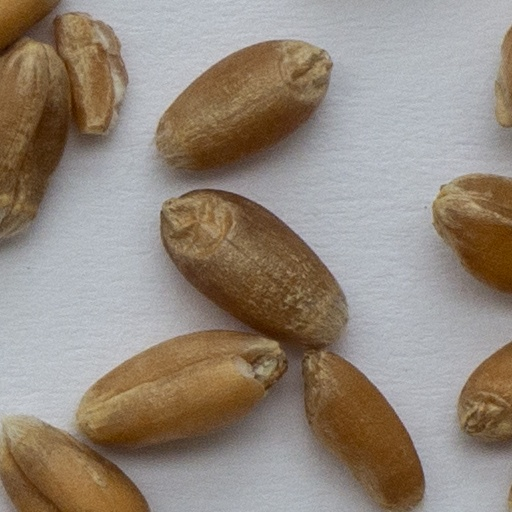Wheat-grain-damaged-poly: (51, 13, 132, 149)
